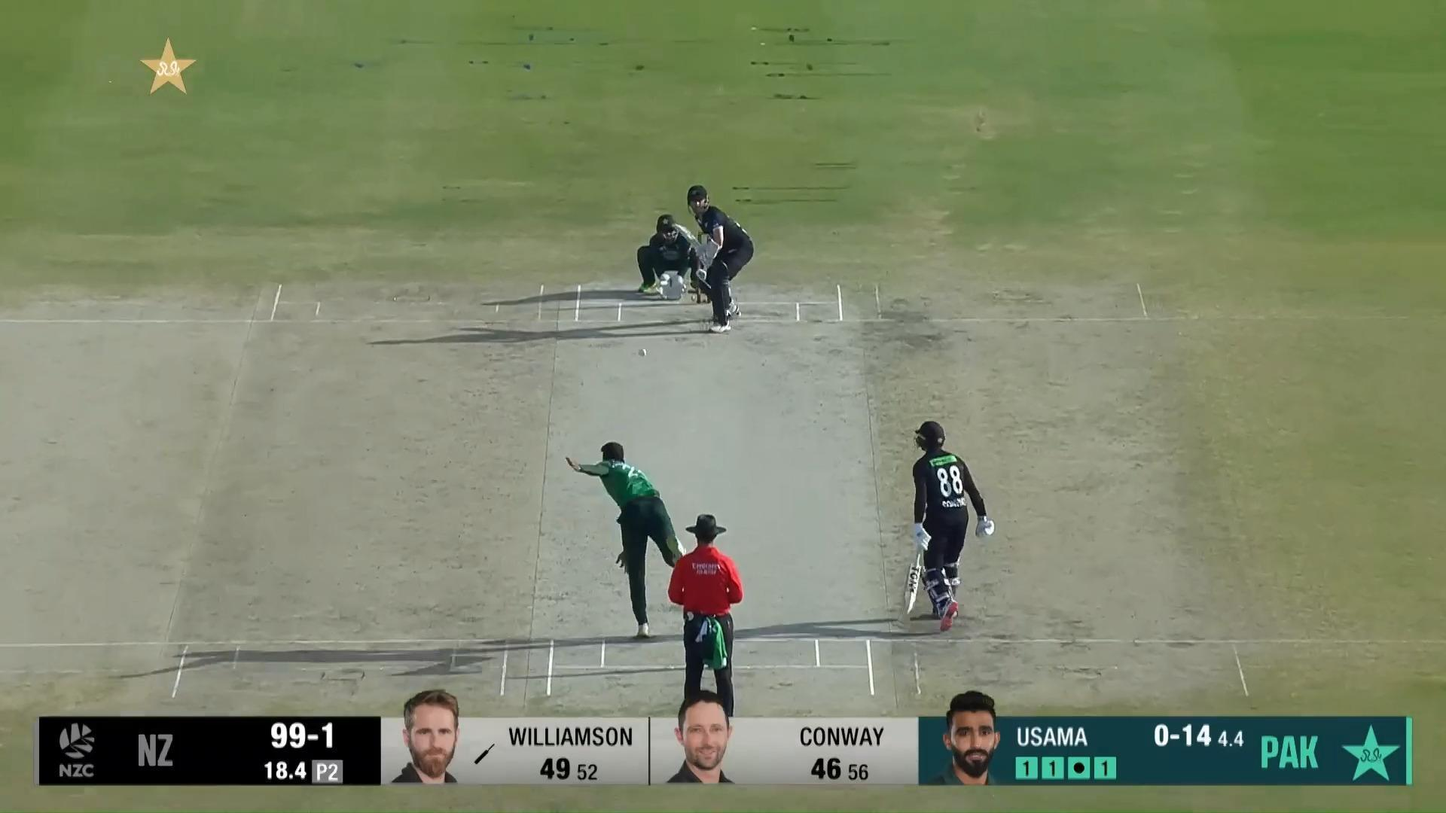BM 1: (671, 185, 755, 334)
BO: (566, 441, 687, 638)
